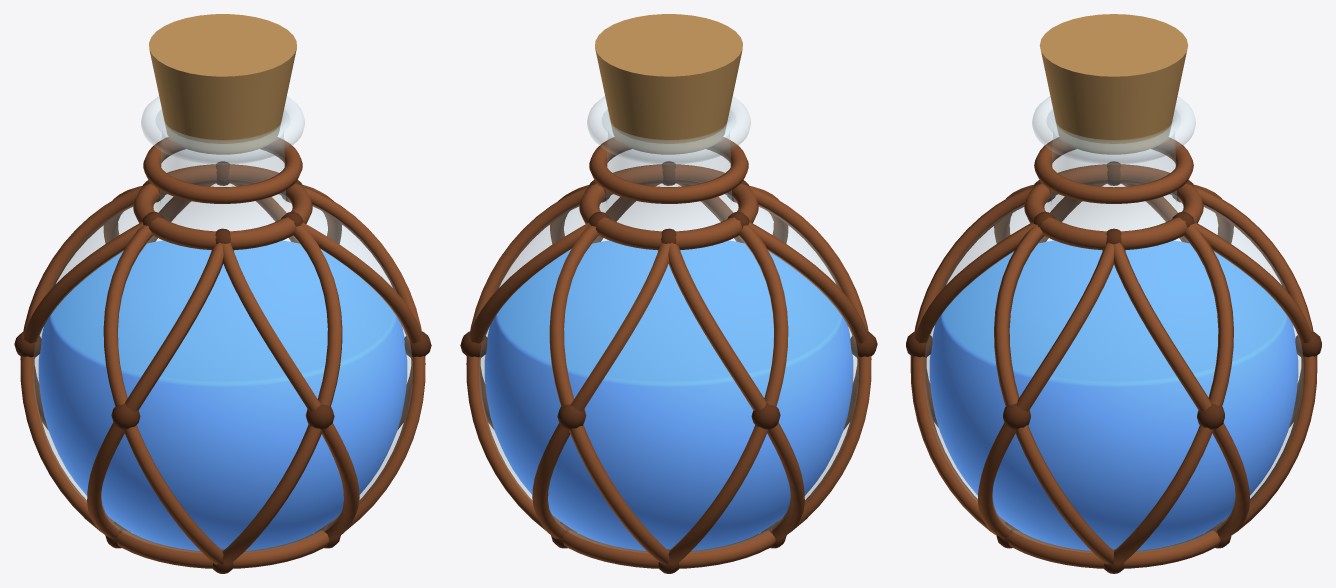
File: ManaPotion.glb
The picture shows the model from 3 angles, left to right: view 1: azimuth 30°, elevation 25°; view 2: azimuth 150°, elevation 25°; view 3: azimuth 270°, elevation 25°; orthographic projection.
Parts seen in each view (by area): view 1: bottleGlass, manaLiquid, cork, collarRing, lip, neckTie, baseRing, strapUpperR2, strapUpperL3, strapUpperR1, strapUpperL2, strapLowerR1 (+11 smaller); view 2: bottleGlass, manaLiquid, cork, collarRing, lip, neckTie, baseRing, strapUpperL4, strapUpperR3, strapUpperL5, strapUpperR4, strapLowerL4 (+11 smaller); view 3: bottleGlass, manaLiquid, cork, collarRing, lip, neckTie, baseRing, strapUpperL1, strapUpperR5, strapUpperR0, strapUpperL0, strapLowerL1 (+11 smaller).
Part boxes in pixels (left/top/right/bottom): bottleGlass: left=33, top=109, right=412, bottom=552; manaLiquid: left=38, top=240, right=407, bottom=550; cork: left=149, top=14, right=296, bottom=154; collarRing: left=133, top=164, right=312, bottom=250; lip: left=141, top=96, right=304, bottom=164; neckTie: left=143, top=137, right=302, bottom=203; baseRing: left=108, top=516, right=338, bottom=568; strapUpperR2: left=125, top=242, right=223, bottom=411; strapUpperL3: left=103, top=225, right=153, bottom=406; strapUpperR1: left=293, top=224, right=342, bottom=406; strapUpperL2: left=222, top=243, right=320, bottom=411; strapLowerR1: left=222, top=424, right=322, bottom=565; bottleGlass: left=479, top=109, right=858, bottom=552; manaLiquid: left=484, top=240, right=853, bottom=550; cork: left=595, top=14, right=742, bottom=154; collarRing: left=579, top=164, right=758, bottom=250; lip: left=587, top=96, right=750, bottom=164; neckTie: left=589, top=137, right=748, bottom=203; baseRing: left=553, top=516, right=783, bottom=568; strapUpperL4: left=668, top=242, right=766, bottom=411; strapUpperR3: left=738, top=225, right=788, bottom=406; strapUpperL5: left=549, top=224, right=598, bottom=406; strapUpperR4: left=571, top=243, right=669, bottom=411; strapLowerL4: left=569, top=424, right=669, bottom=565; bottleGlass: left=924, top=109, right=1303, bottom=552; manaLiquid: left=929, top=240, right=1298, bottom=550; cork: left=1039, top=14, right=1188, bottom=154; collarRing: left=1024, top=164, right=1203, bottom=250; lip: left=1032, top=96, right=1195, bottom=164; neckTie: left=1034, top=137, right=1193, bottom=203; baseRing: left=999, top=516, right=1228, bottom=568; strapUpperL1: left=994, top=224, right=1044, bottom=406; strapUpperR5: left=1183, top=224, right=1233, bottom=406; strapUpperR0: left=1016, top=242, right=1114, bottom=411; strapUpperL0: left=1114, top=242, right=1211, bottom=411; strapLowerL1: left=910, top=356, right=1005, bottom=535.
Bounding box in the file's own units: 1.7 × 2.41 × 1.85.
